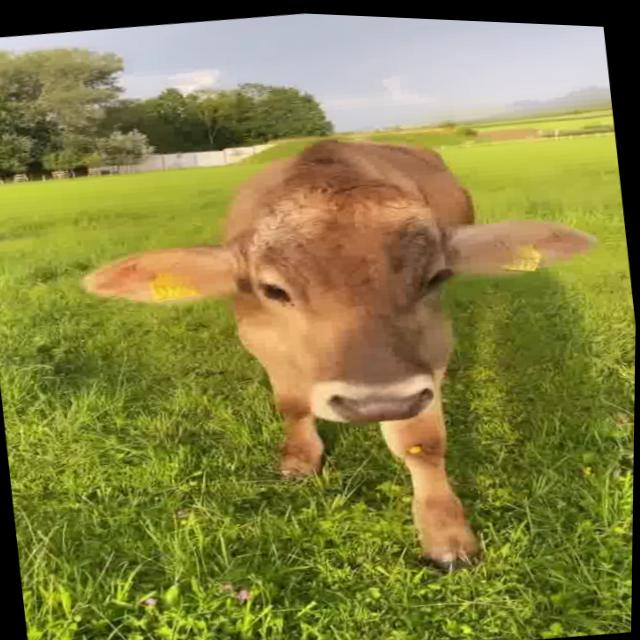cowFace: (78, 138, 608, 427)
